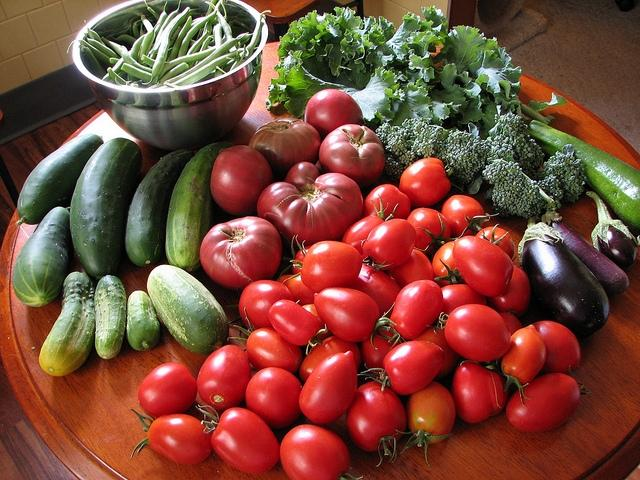broccoli: (482, 160, 557, 219), (376, 118, 457, 170), (489, 112, 545, 177), (434, 128, 492, 186), (538, 150, 588, 209)
cucumber: (527, 120, 640, 238), (70, 138, 142, 280), (164, 141, 233, 273), (15, 133, 104, 226), (126, 150, 194, 266), (146, 264, 230, 355), (12, 206, 74, 306), (38, 272, 96, 376), (94, 275, 127, 359), (126, 290, 160, 350)
eggplant: (518, 216, 610, 342), (552, 220, 630, 294), (586, 191, 640, 267)
green bean: (146, 32, 250, 89), (142, 8, 190, 86), (154, 48, 244, 89), (226, 10, 272, 59), (157, 46, 215, 80), (178, 10, 218, 58), (148, 0, 181, 55), (205, 2, 237, 52), (167, 16, 192, 62), (85, 33, 122, 60), (186, 20, 212, 55), (120, 46, 152, 74), (138, 24, 160, 63), (121, 63, 157, 84), (82, 47, 105, 78), (214, 19, 226, 78), (84, 20, 106, 46), (141, 54, 169, 68), (131, 34, 145, 62), (132, 19, 142, 40), (190, 17, 204, 30), (154, 35, 162, 49), (96, 30, 115, 34), (211, 16, 218, 25)
tomato: (258, 161, 364, 246), (200, 216, 282, 292), (195, 405, 280, 475), (506, 366, 593, 433), (130, 400, 212, 465), (314, 286, 397, 350), (396, 380, 456, 467), (346, 381, 406, 467), (228, 307, 302, 374), (426, 304, 511, 362), (357, 340, 445, 395), (210, 144, 275, 218), (248, 117, 322, 181), (282, 234, 363, 292), (280, 424, 362, 480), (319, 124, 385, 191), (300, 350, 358, 424), (452, 235, 514, 297), (388, 280, 444, 348), (501, 324, 546, 408), (196, 344, 252, 410), (451, 360, 508, 424), (245, 367, 302, 429), (268, 300, 328, 356), (305, 88, 363, 144), (138, 362, 198, 416), (361, 218, 416, 272), (299, 334, 361, 380), (406, 207, 456, 264), (238, 280, 294, 330), (398, 158, 452, 208), (351, 264, 401, 318), (412, 320, 458, 378), (532, 320, 582, 373), (482, 264, 530, 318), (442, 195, 499, 240), (386, 248, 434, 290), (362, 184, 411, 220), (432, 240, 468, 288), (300, 304, 335, 350), (361, 330, 401, 368), (441, 284, 488, 315), (476, 224, 514, 260), (276, 274, 316, 306), (292, 244, 313, 274), (498, 313, 522, 336)
